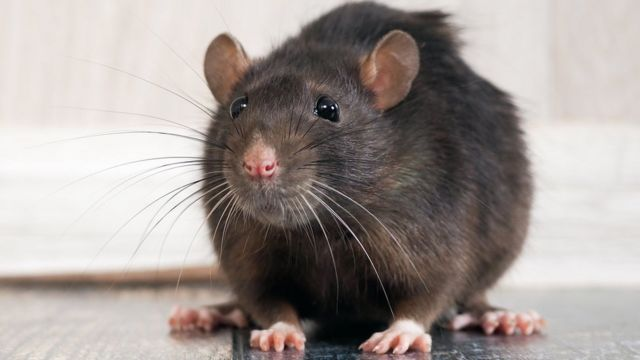Rat: (150, 2, 570, 354)
